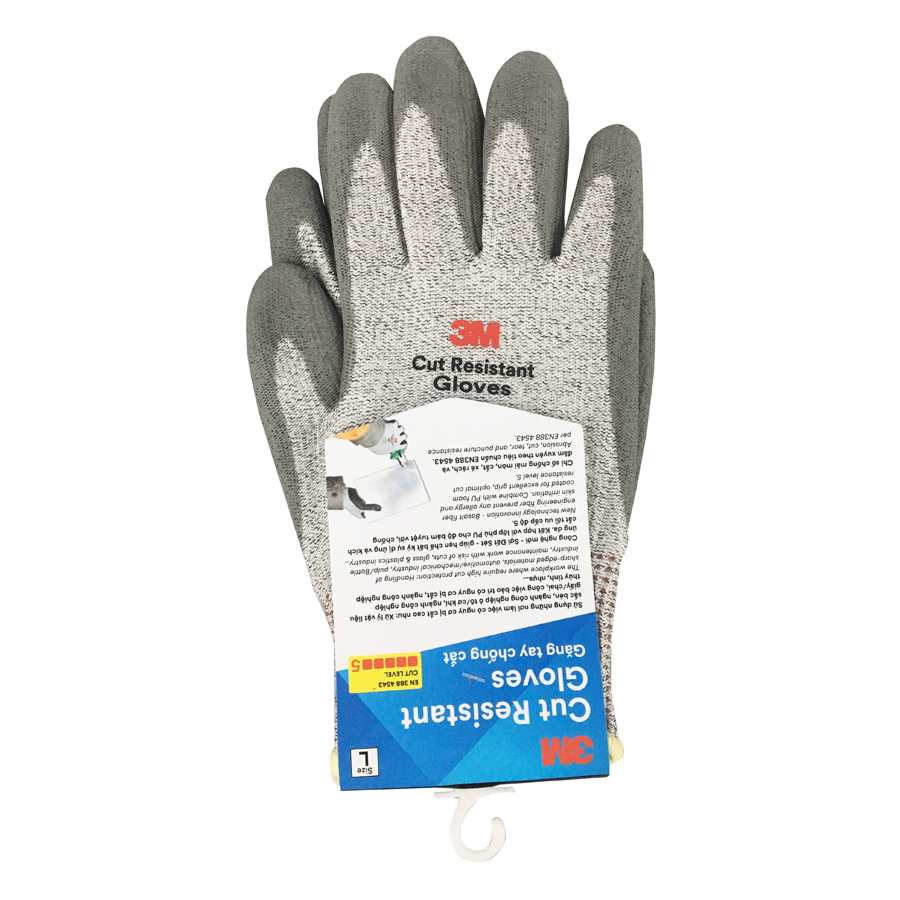3M: (433, 309, 512, 352), (532, 729, 600, 771)
